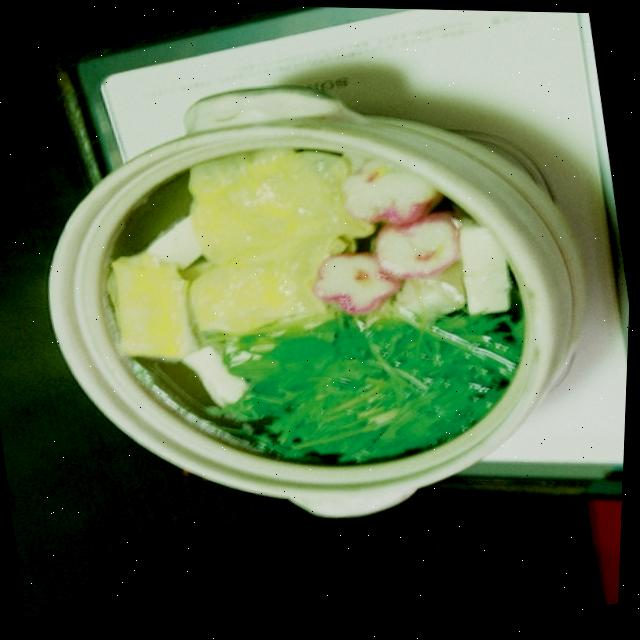豆腐料理: (33, 73, 589, 538)
